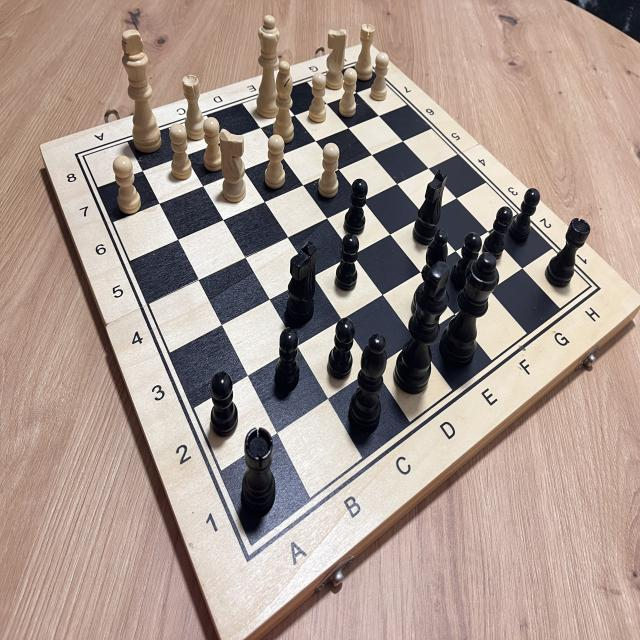black-bishop: (346, 326, 390, 449), (416, 223, 450, 319)
black-king: (391, 246, 455, 402)
black-knight: (407, 162, 451, 255), (280, 231, 320, 327)
black-pawn: (203, 362, 244, 442), (268, 325, 306, 399), (321, 314, 359, 386), (476, 206, 514, 276), (451, 227, 485, 304), (328, 228, 364, 298), (340, 171, 376, 237), (510, 182, 544, 251)
black-queen: (436, 248, 498, 390)
black-rook: (230, 419, 285, 524), (543, 208, 596, 296)
white-bishop: (264, 54, 301, 147)
white-king: (113, 21, 165, 157)
white-knight: (216, 125, 252, 204), (319, 19, 349, 98)
white-pawn: (106, 149, 147, 218), (163, 116, 197, 186), (199, 110, 231, 177), (260, 129, 290, 194), (315, 140, 345, 202), (366, 50, 396, 107), (335, 63, 362, 124), (304, 71, 331, 130)
white-queen: (249, 7, 283, 126)
white-rook: (177, 67, 210, 146), (350, 18, 380, 86)
